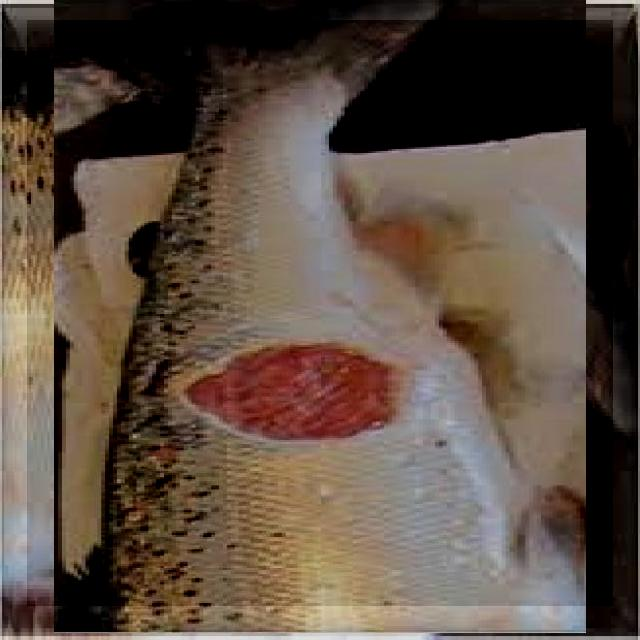EUS Disease: (27, 20, 613, 606), (129, 196, 350, 419)
